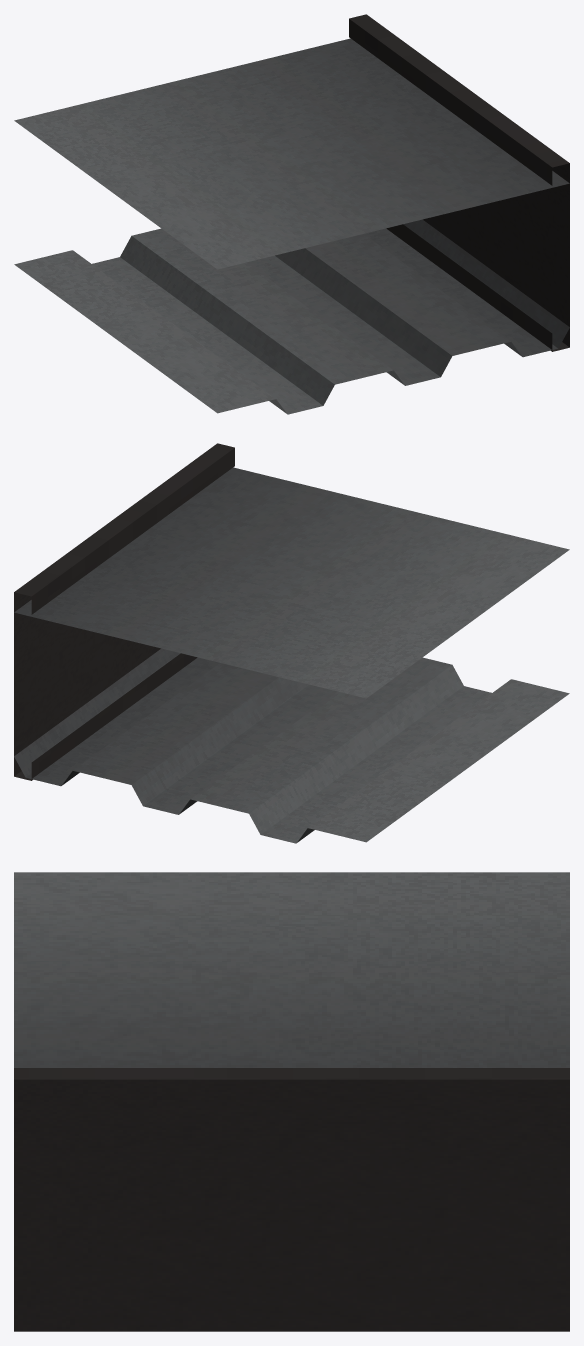
Rendered from GasRoof_4.glb.
3 views of the same model, one above another, from view 1: azimuth 30°, elevation 25°; view 2: azimuth 150°, elevation 25°; view 3: azimuth 270°, elevation 25° (orthographic). The views are drawn at different scales.
Parts seen in each view (by area): view 1: GasRoof_4.001; view 2: GasRoof_4.001; view 3: GasRoof_4.001.
Part boxes in pixels (<box>): GasRoof_4.001: <box>14,14,569,414</box>; GasRoof_4.001: <box>14,443,569,843</box>; GasRoof_4.001: <box>14,872,569,1331</box>.
Size of the model in its own units: 2 by 1 by 2.
Materials: 1 (1 with a texture image).
